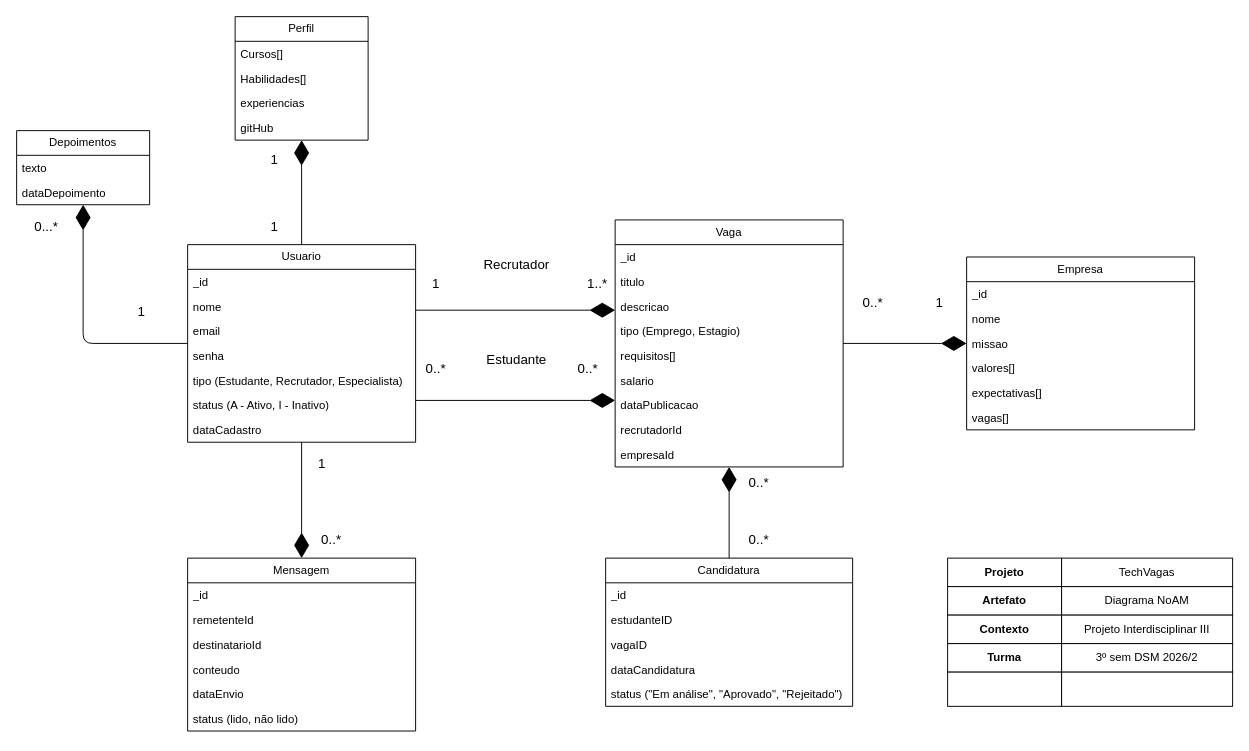
This 1249x751 diagram has some shape labels left out. The centre of each missing label's shape, as x and y in pixels:
"- Gabriel Moreti Oliveira - Thiago Henrique Vieira" goes at (x=1147, y=688).
"Altores" goes at (x=1004, y=688).
